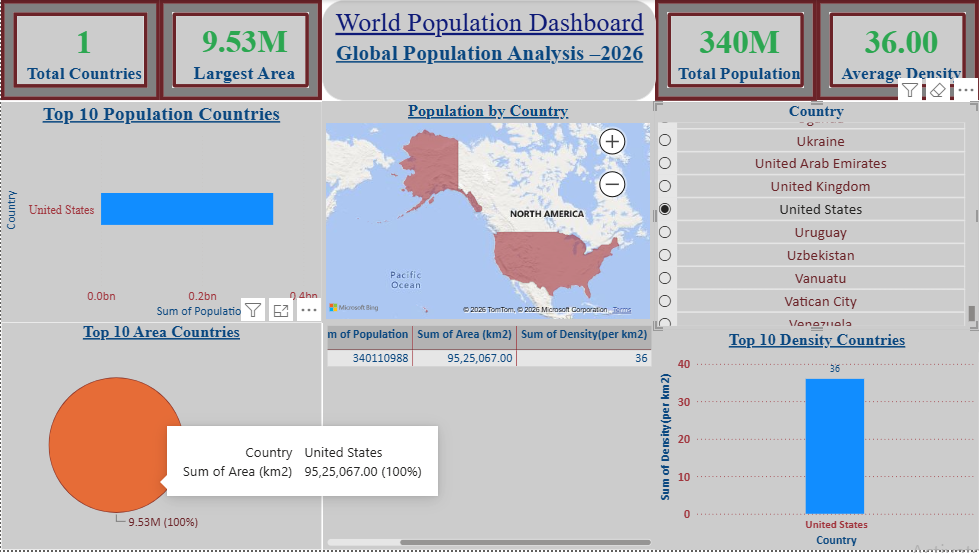

The dashboard page shown, as its layout file describes it:
{"tool":"powerbi","page":{"name":" Page 1","canvas":[1280,720],"ordinal":0},"visuals":[{"type":"cardVisual","fields":{"Data":["ISO Alpha1 (Sheet1).Total Countries"]},"box":[0,0,208.3,131],"z":0},{"type":"cardVisual","fields":{"Data":["ISO Alpha1 (Sheet1).Largest Area"]},"box":[208.3,0,211.7,131],"z":1000},{"type":"cardVisual","fields":{"Data":["ISO Alpha1 (Sheet1).Total Population"]},"box":[856.7,0,211.7,131.7],"z":2000},{"type":"cardVisual","fields":{"Data":["ISO Alpha1 (Sheet1).Average Density"]},"box":[1068.3,0,211.7,131],"z":3000},{"type":"clusteredBarChart","title":"Top 10 Population  Countries","fields":{"Category":["ISO Alpha1 (Sheet1).Country"],"Y":["Sum(ISO Alpha1 (Sheet1).Population)"]},"box":[0,133.3,420,288.3],"z":4000},{"type":"filledMap","title":"Population by Country","fields":{"Category":["ISO Alpha1 (Sheet1).Country"]},"box":[420,131.7,435,290],"z":5000},{"type":"clusteredColumnChart","title":"Top 10 Density Countries","fields":{"Y":["Sum(ISO Alpha1 (Sheet1).Density(per km2))"],"Category":["ISO Alpha1 (Sheet1).Country"]},"box":[855.7,431.4,424.3,288.6],"z":6000},{"type":"pieChart","title":"Top 10 Area Countries","fields":{"Category":["ISO Alpha1 (Sheet1).Country"],"Y":["Sum(ISO Alpha1 (Sheet1).Area (km2))"]},"box":[0,421.7,420,298.3],"z":7000},{"type":"textbox","title":"World Population Dashboard","box":[420,0,436.7,131.7],"z":8000},{"type":"tableEx","fields":{"Values":["ISO Alpha1 (Sheet1).Country","Sum(ISO Alpha1 (Sheet1).Population)","Sum(ISO Alpha1 (Sheet1).Area (km2))","Sum(ISO Alpha1 (Sheet1).Density(per km2))"]},"box":[421.7,421.7,435,298.3],"z":9000},{"type":"listSlicer","fields":{"Values":["ISO Alpha1 (Sheet1).Country"]},"box":[855,133.3,425,298.3],"z":10000}]}

Visuals, with their boxes in screenshot pixels (x1, y1, x2, y2), scaled from the page's 1280x720 canvas onto the 979x553 screenshot:
cardVisual - ISO Alpha1 (Sheet1).Total Countries: [0,0,159,101]
cardVisual - ISO Alpha1 (Sheet1).Largest Area: [159,0,321,101]
cardVisual - ISO Alpha1 (Sheet1).Total Population: [655,0,817,101]
cardVisual - ISO Alpha1 (Sheet1).Average Density: [817,0,978,101]
"Top 10 Population  Countries" clusteredBarChart: [0,102,321,324]
"Population by Country" filledMap: [321,101,654,324]
"Top 10 Density Countries" clusteredColumnChart: [654,331,978,552]
"Top 10 Area Countries" pieChart: [0,324,321,552]
"World Population Dashboard" textbox: [321,0,655,101]
tableEx - ISO Alpha1 (Sheet1).Country x Sum(ISO Alpha1 (Sheet1).Population): [323,324,655,552]
listSlicer - ISO Alpha1 (Sheet1).Country: [654,102,978,331]
